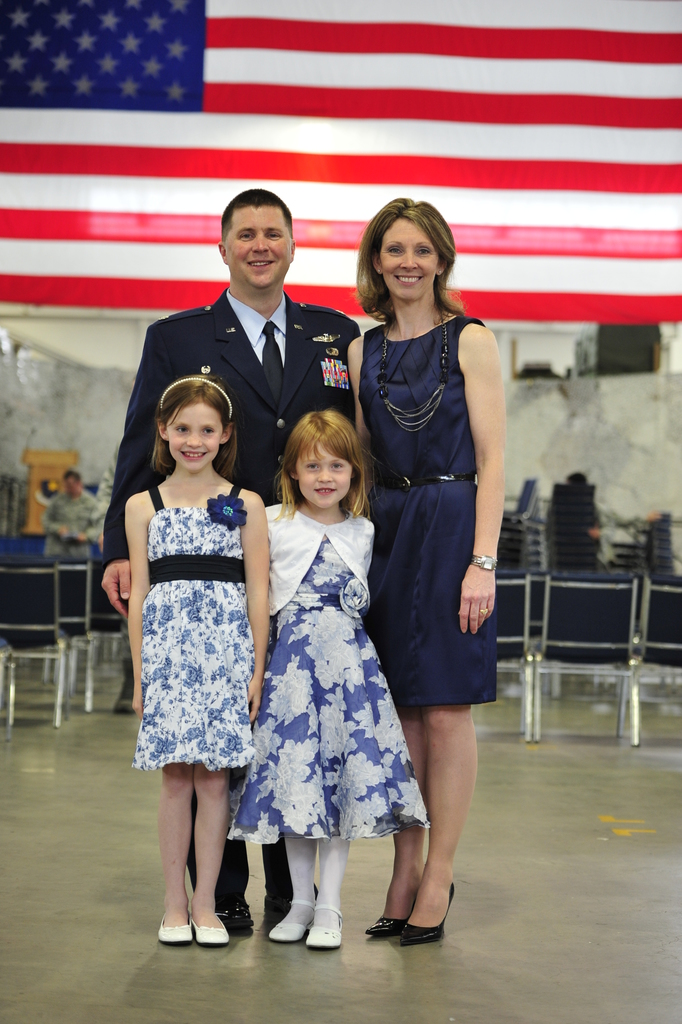Human-face: (227, 206, 295, 286), (385, 209, 434, 304), (165, 398, 218, 465), (295, 446, 352, 505)
